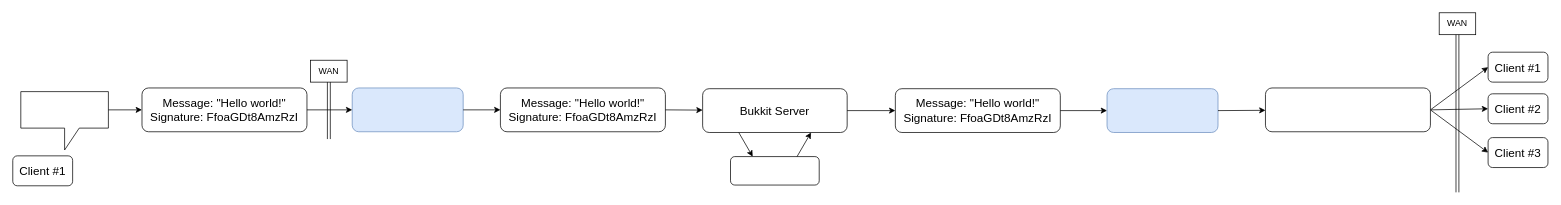
The diagram is 1561 pixels wide and 205 high, and some of its shapes have lost their labels. Here are the shapes that lost their labels. From the top down, the centre of each, then its label:
(x=64, y=120): "Hello world!"
(x=407, y=109): NoEncryption Injection (C => S)
(x=1162, y=110): NoEncryption Injection (S => C)
(x=1347, y=109): Message: "Hello world!" Signature: EMPTY
(x=774, y=170): Other Plugins
